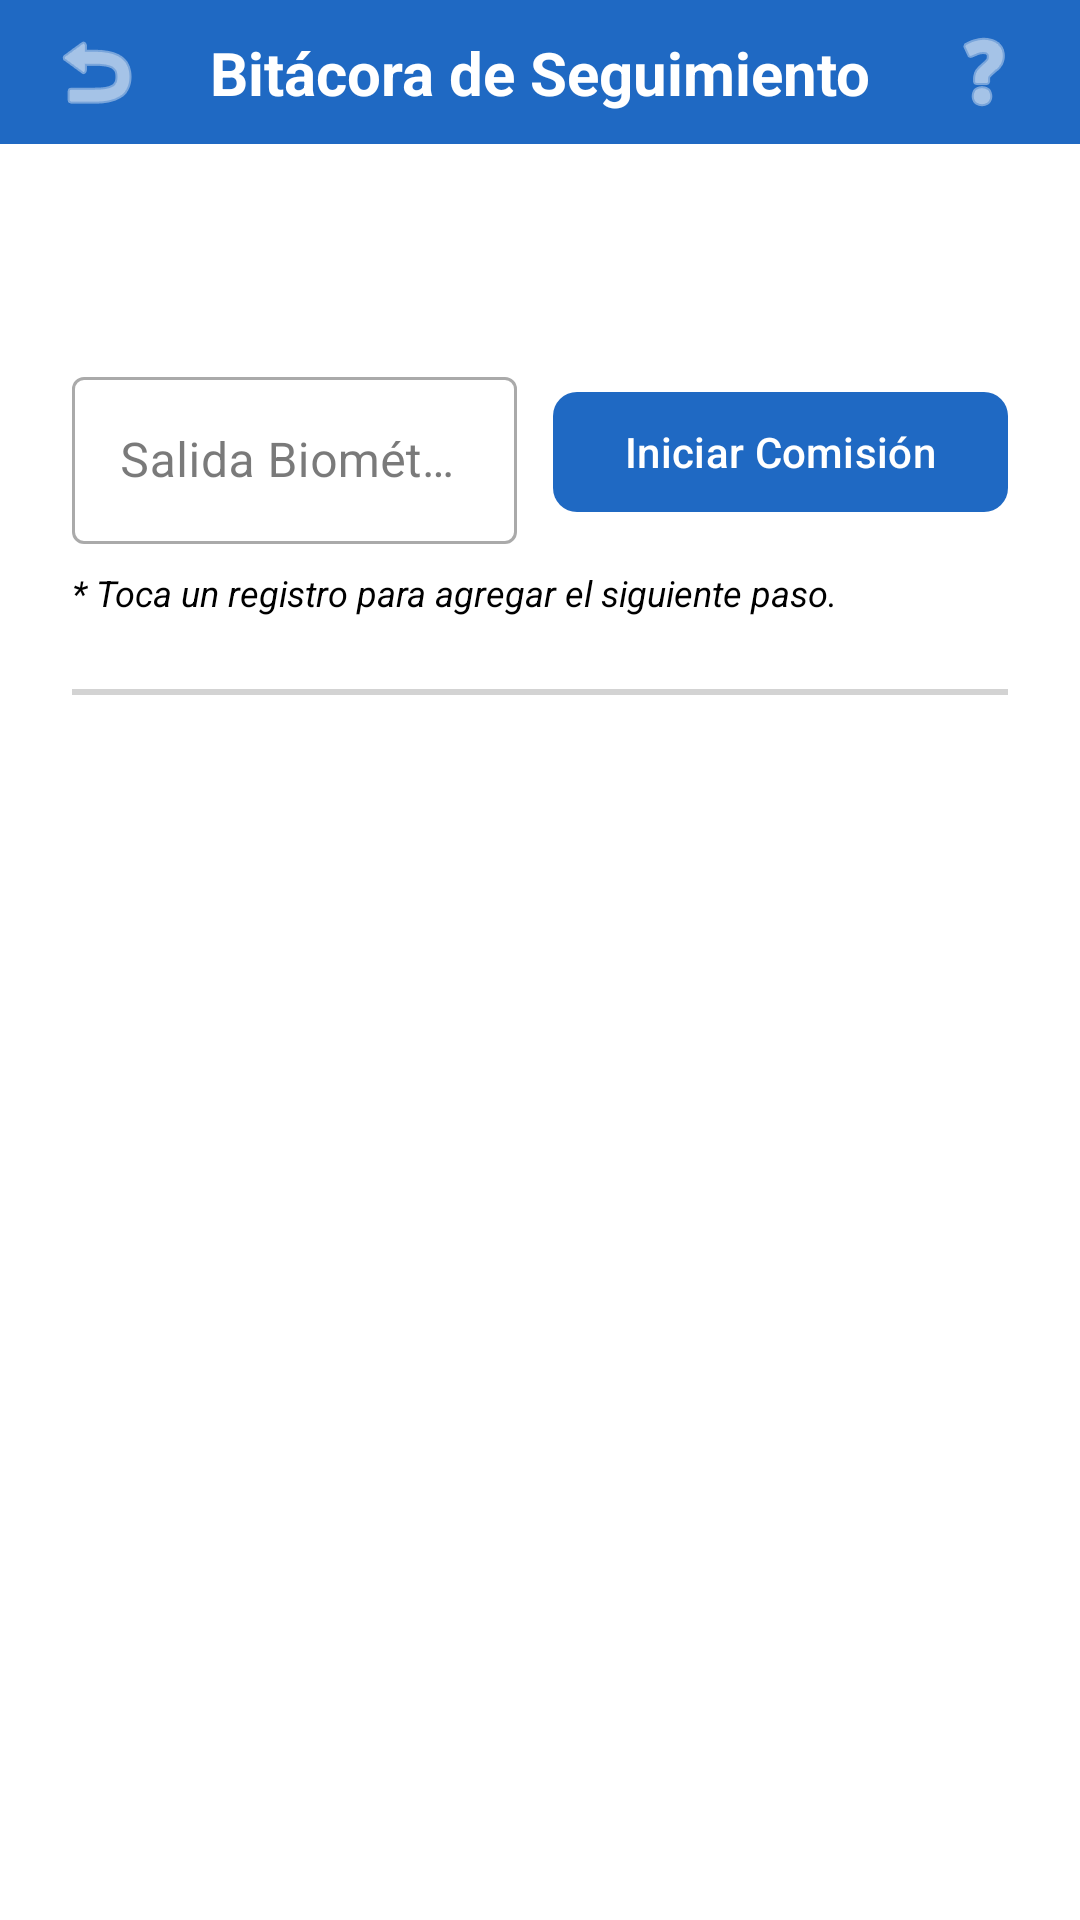

Icon bounding boxes for this 1080 × 1920 phone screenshot, format (x1,y1,x2,y2):
Atrás: (63,41,132,104)
Guía de Uso - DECE Gestión: (963,38,1005,106)
